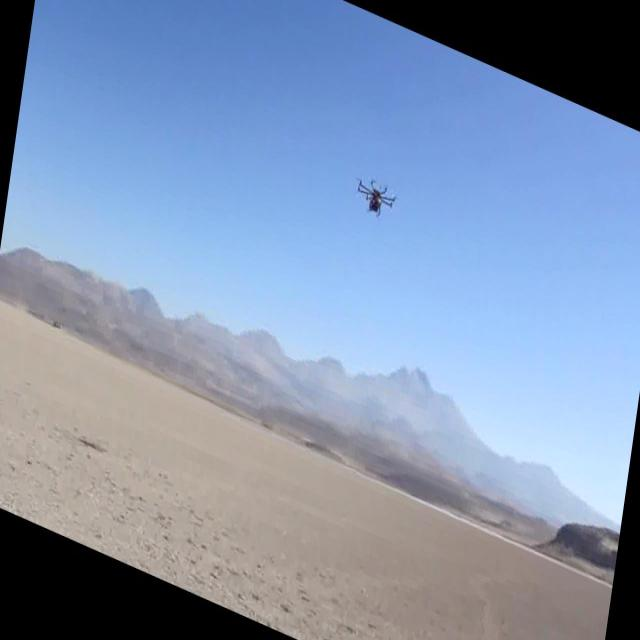drone: (353, 162, 400, 232)
